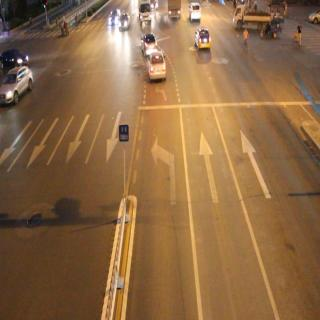Car: (1, 66, 34, 108), (148, 51, 166, 80), (1, 47, 28, 66), (195, 26, 212, 49), (138, 1, 151, 24), (142, 34, 156, 55), (107, 5, 120, 26), (189, 2, 201, 22), (119, 12, 130, 33)
